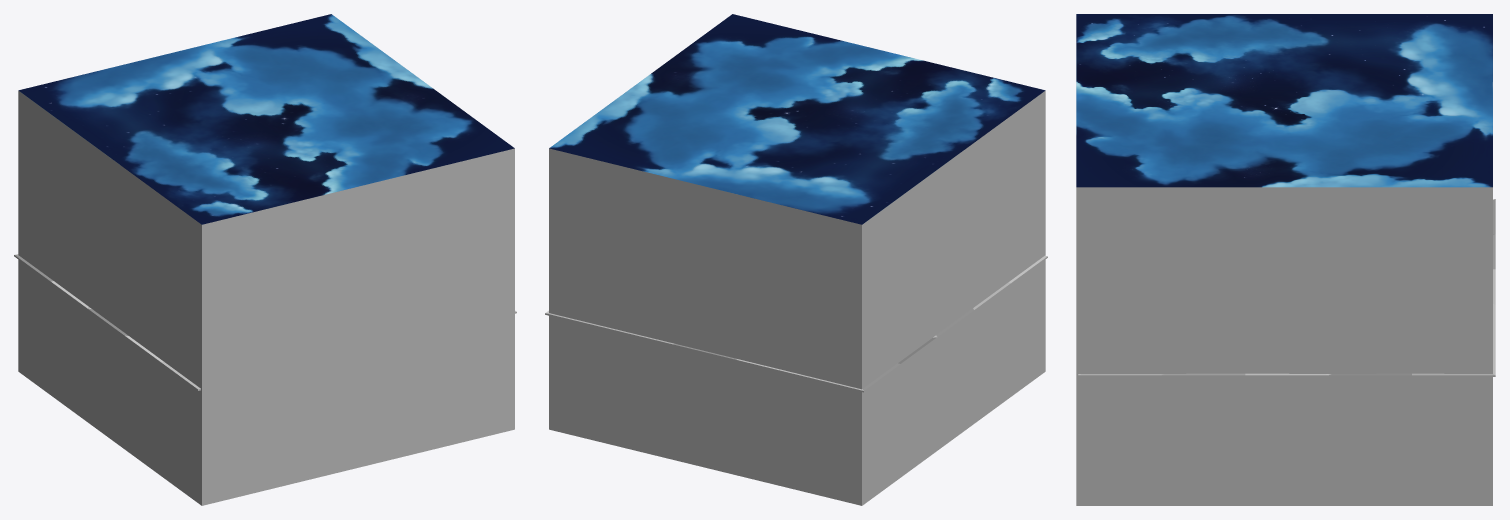
File: saisyo.FBX
3 views of the same model, side by side, from view 1: azimuth 30°, elevation 25°; view 2: azimuth 150°, elevation 25°; view 3: azimuth 270°, elevation 25° (orthographic). The views are drawn at different scales.
Visible parts, largest first — view 1: Box001, terrain-world-plain; view 2: Box001, terrain-world-plain; view 3: Box001, terrain-world-plain.
Boxes of the visible parts, left/top/right/bottom form: Box001: left=18, top=14, right=514, bottom=505; terrain-world-plain: left=14, top=254, right=516, bottom=390; Box001: left=549, top=14, right=1045, bottom=505; terrain-world-plain: left=545, top=255, right=1047, bottom=392; Box001: left=1076, top=14, right=1492, bottom=505; terrain-world-plain: left=1078, top=199, right=1495, bottom=376.
Size of the model in its own units: 2898 by 2911 by 2443.
